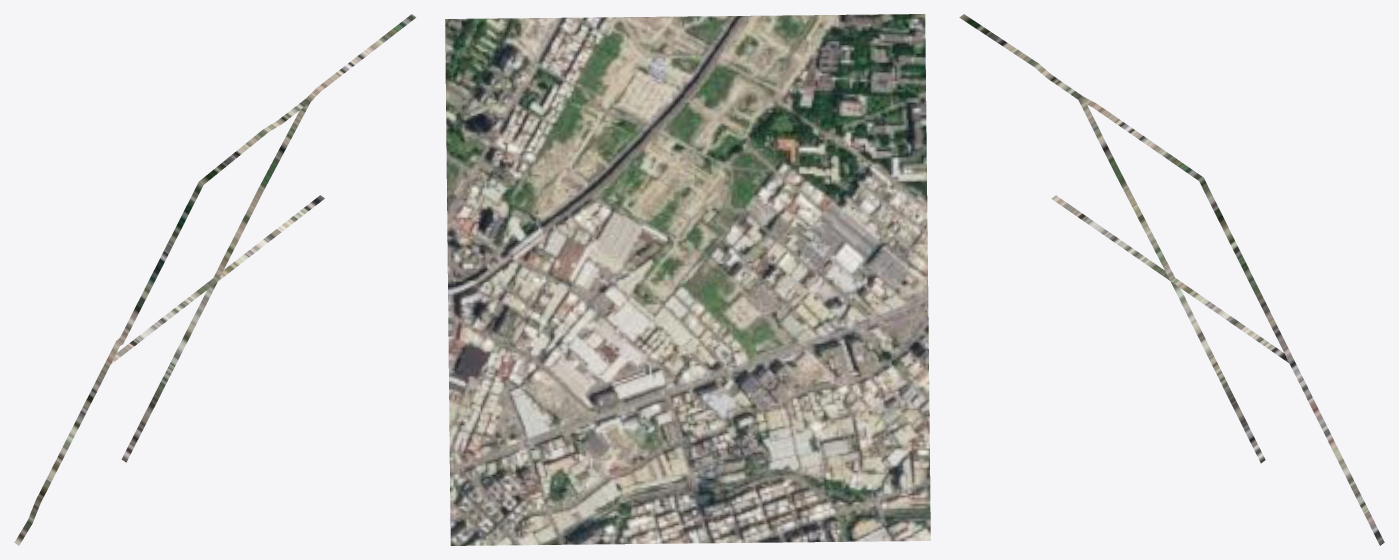
3 renders of one model, left to right at view 1: azimuth 30°, elevation 25°; view 2: azimuth 150°, elevation 25°; view 3: azimuth 270°, elevation 25°, orthographic. The views are drawn at different scales.
Bounding box in the file's own units: 1222 × 1112 × 1033.
1 material, 1 textured.
